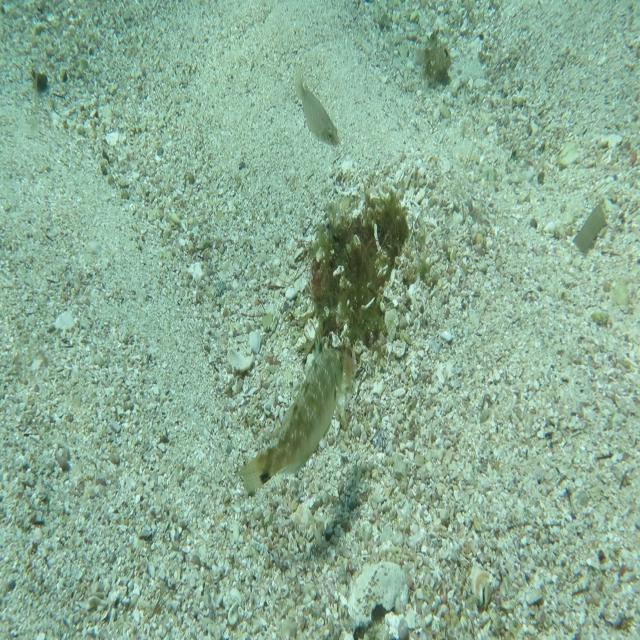AM: (238, 342, 344, 496)
core_nest: (349, 217, 397, 254)
female: (292, 62, 342, 149)
nest: (303, 181, 428, 376)
nest_material: (340, 347, 358, 383)
